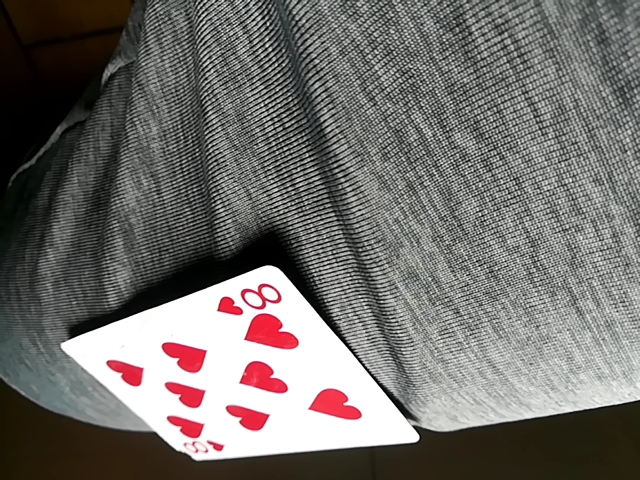hx 8: (63, 266, 418, 462)
